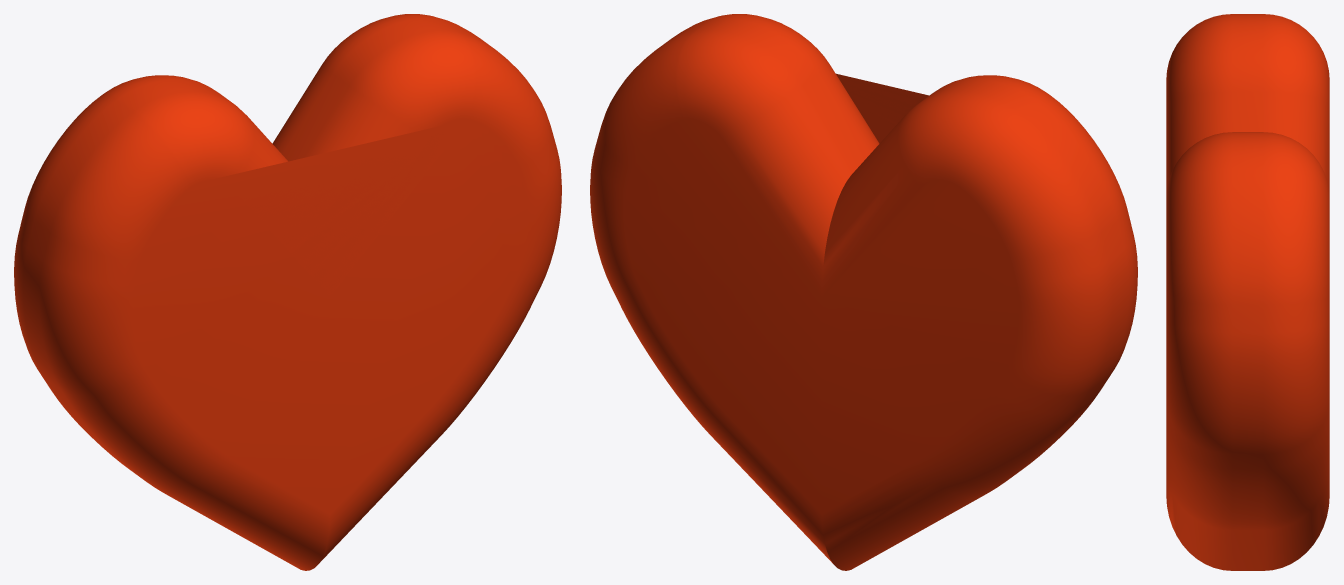
File: Tim.fbx
3 renders of one model, left to right at view 1: azimuth 30°, elevation 25°; view 2: azimuth 150°, elevation 25°; view 3: azimuth 270°, elevation 25°, orthographic. The views are drawn at different scales.
Parts seen in each view (by area): view 1: Cylinder.001; view 2: Cylinder.001; view 3: Cylinder.001.
Boxes of the visible parts, x1=… form: Cylinder.001: x1=14, y1=14, x2=561, y2=570; Cylinder.001: x1=590, y1=14, x2=1137, y2=570; Cylinder.001: x1=1166, y1=14, x2=1329, y2=570.
Size of the model in its own units: 196 by 184 by 55.74.
